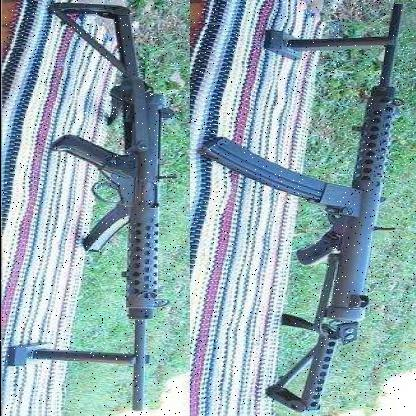rifle: (185, 3, 410, 415), (33, 1, 184, 415)
